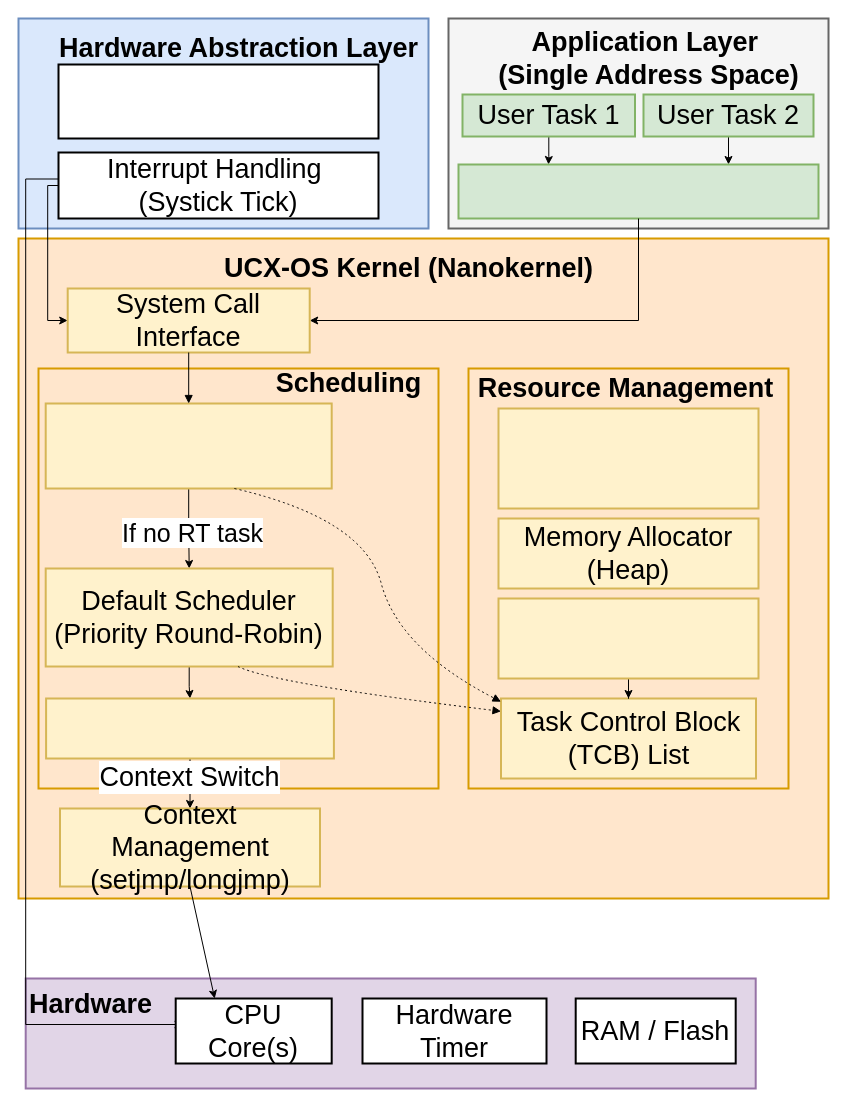
Image size: 846x1106. Some labels were removed from this diagram. The box of each missing label's shape, as (x1, y1, x2, y2) in pixels:
C Library & UCX API: (457, 163, 819, 219)
Dispatcher: (45, 697, 334, 759)
Kernel Control Block (KCB): (497, 597, 759, 679)
Peripheral Drivers (GPIO, UART, ...): (57, 63, 379, 139)
Real-Time Scheduler Hook (User Defined): (44, 402, 332, 489)
Sync & Comm (Semaphores, Queues, Pipes): (497, 407, 759, 509)
